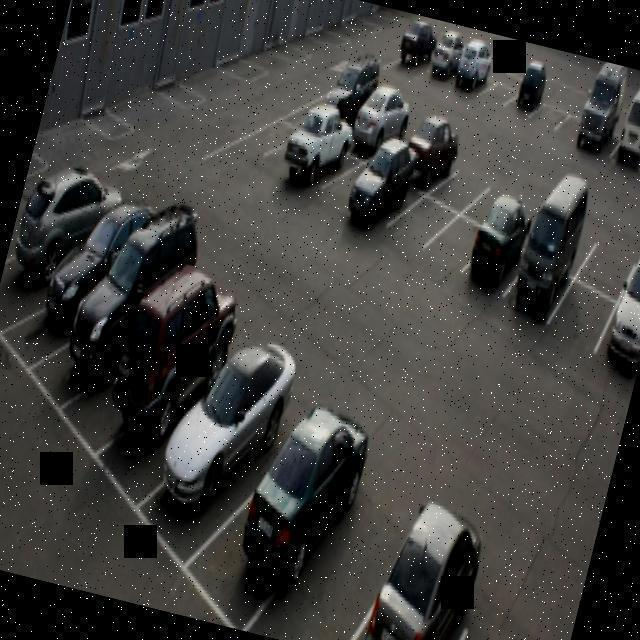space-empty: (313, 123, 386, 240), (387, 157, 457, 264), (587, 292, 640, 412), (550, 282, 615, 378), (440, 596, 564, 640), (429, 207, 487, 293), (235, 92, 296, 171), (576, 224, 637, 298), (436, 132, 492, 207), (471, 157, 524, 226), (541, 191, 598, 253), (478, 71, 521, 122), (513, 176, 556, 224), (551, 108, 588, 152), (529, 99, 564, 137), (626, 231, 640, 295)
space-occupied: (194, 381, 370, 640), (143, 334, 310, 559), (62, 244, 213, 480), (98, 305, 250, 529), (258, 443, 418, 640), (48, 217, 186, 408), (0, 146, 114, 322), (17, 209, 134, 378), (343, 512, 487, 640), (460, 197, 539, 310), (282, 92, 359, 201), (352, 135, 421, 252), (508, 221, 574, 325), (350, 65, 419, 144), (402, 107, 463, 181), (320, 55, 384, 119), (392, 23, 444, 89), (575, 107, 622, 172), (451, 47, 494, 110), (422, 45, 464, 96), (609, 117, 640, 183), (508, 80, 545, 127)
